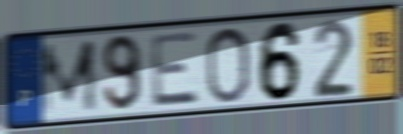2: (312, 14, 356, 100)
6: (255, 18, 305, 104)
9: (100, 31, 144, 116)
E: (149, 29, 203, 110)
M: (38, 36, 101, 119)
O: (203, 24, 252, 107)
